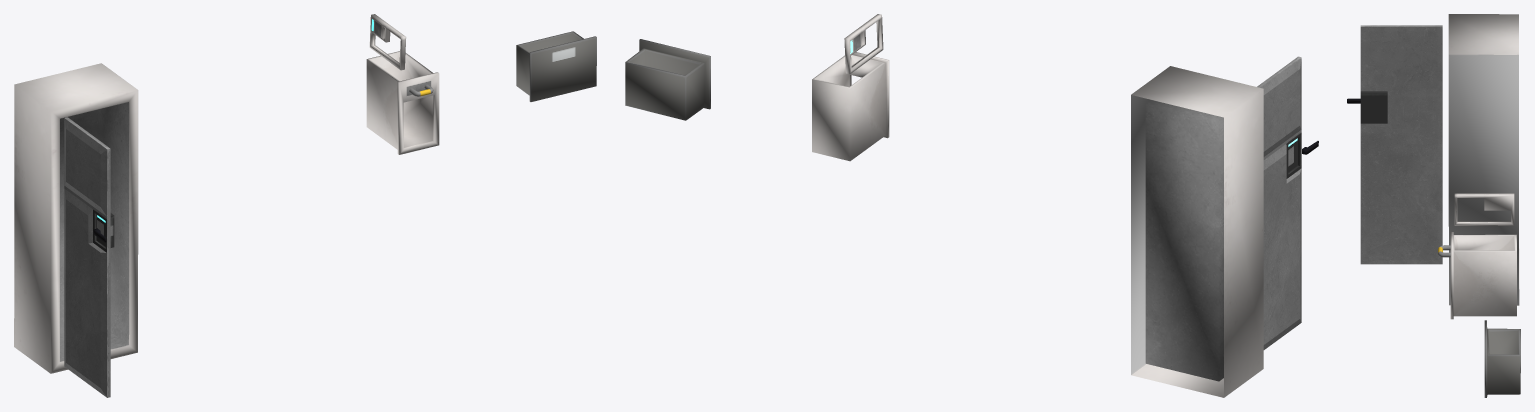
File: boxesLow.fbx
3 renders of one model, left to right at view 1: azimuth 30°, elevation 25°; view 2: azimuth 150°, elevation 25°; view 3: azimuth 270°, elevation 25°, orthographic. The views are drawn at different scales.
Visible parts, largest first — view 1: Cube_014, Cube_025, Cube_040, Cube_042, Cube_041; view 2: Cube_014, Cube_025, Cube_040, Cube_042, Cube_041; view 3: Cube_025, Cube_014, Cube_040, Cube_042, Cube_041.
Part boxes in pixels (box(x1,y1,x2,y2)): Cube_014: box(14, 63, 138, 373); Cube_025: box(64, 117, 114, 397); Cube_040: box(366, 51, 439, 154); Cube_042: box(516, 31, 596, 101); Cube_041: box(369, 14, 406, 70); Cube_014: box(1131, 66, 1263, 397); Cube_025: box(1257, 56, 1301, 349); Cube_040: box(812, 52, 889, 161); Cube_042: box(625, 39, 710, 120); Cube_041: box(844, 14, 883, 73); Cube_025: box(1360, 25, 1442, 264); Cube_014: box(1448, 14, 1519, 305); Cube_040: box(1438, 232, 1516, 319); Cube_042: box(1484, 320, 1520, 397); Cube_041: box(1454, 193, 1514, 225).
Size of the model in its own units: 572 by 254 by 160.
Materials: 1 (1 with a texture image).
